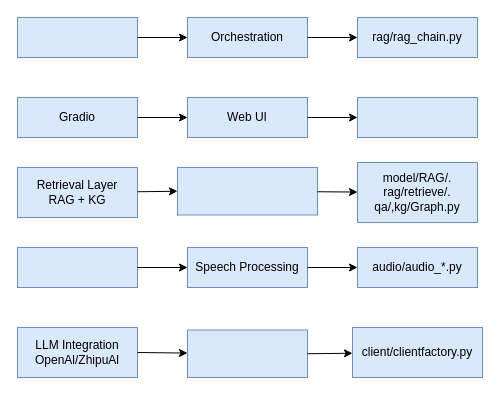
This 500x395 diagram has some shape labels left out. Here are the shapes that lost their labels. From the top down, the centre of each, then its label:
pixel 77 37: LangChain
pixel 417 117: app.py
pixel 247 190: Retrieval-Augmented Gen+ Knowledge Graph
pixel 77 267: Multi-modalTTS/STT
pixel 247 353: Client Libraries
